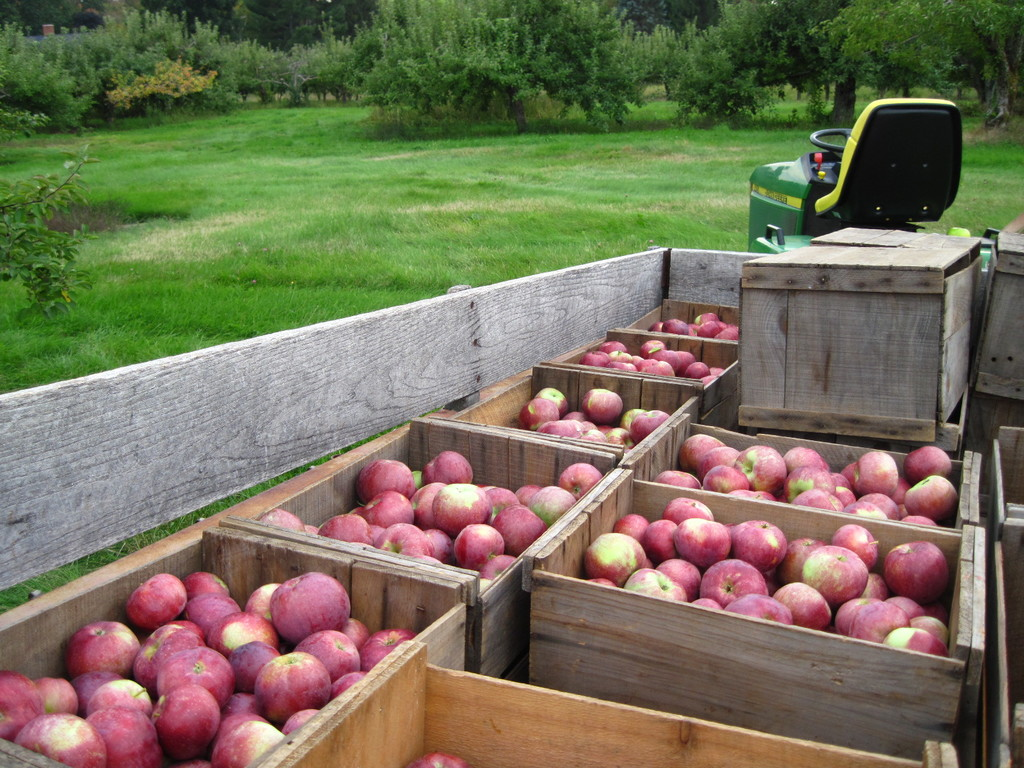Apple: (0, 568, 417, 767), (580, 494, 951, 657), (264, 446, 600, 588), (653, 433, 959, 526), (513, 389, 668, 448), (580, 338, 723, 382), (876, 551, 958, 625), (649, 311, 739, 338), (421, 752, 467, 767)
